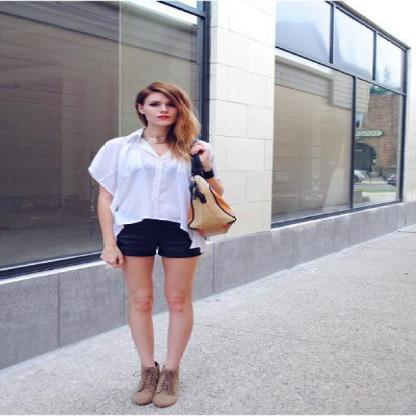bag: (180, 158, 235, 240)
shirt: (88, 125, 227, 224)
shoe: (129, 361, 186, 408)
shorts: (116, 218, 200, 258)
